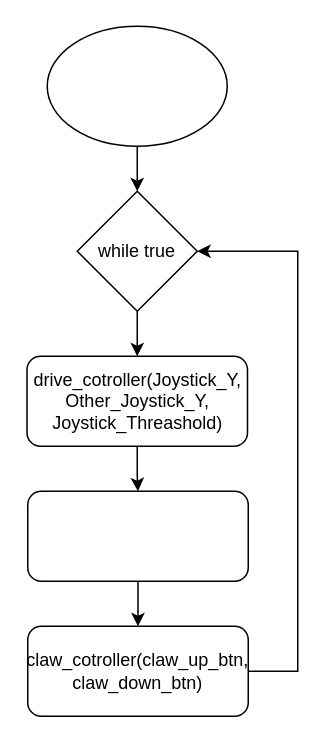
Some shapes in this 336 by 743 pixel diagram are drawn without their labels. The centre of each missing label's shape, as x and y in pixels:
arm_cotroller(arm_up_btn, arm_down_btn): (137,535)
Start: (136,85)
